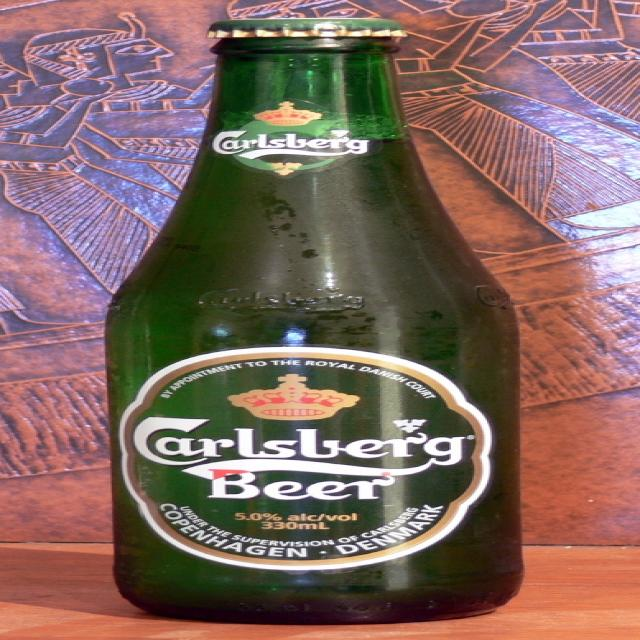carlsberg: (113, 349, 486, 569), (207, 100, 384, 178)
